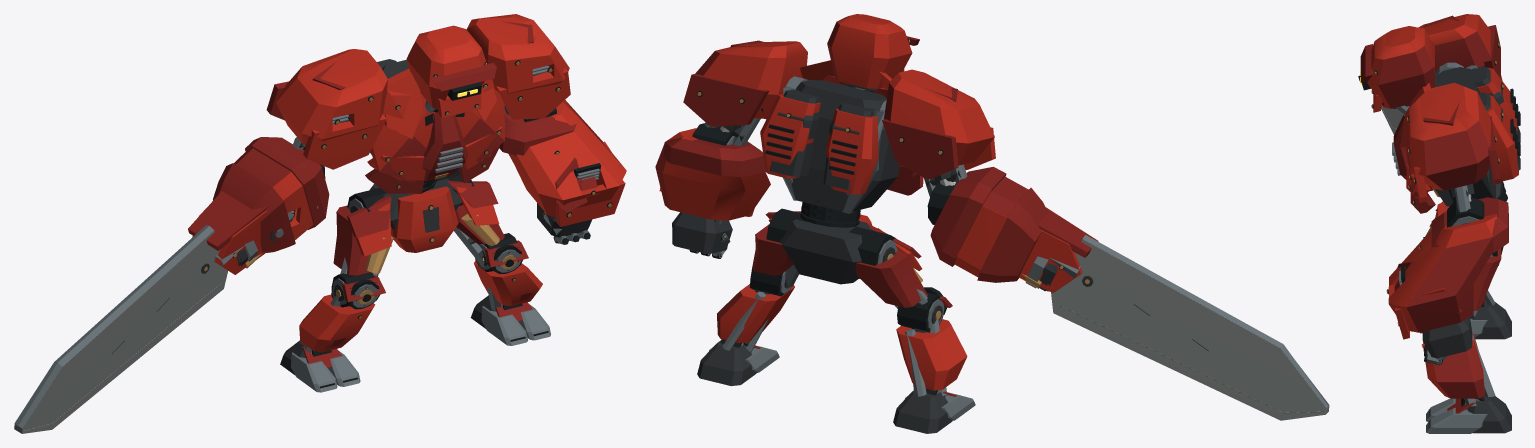
Rendered from red-cleaver-41-v2.glb.
The picture shows the model from 3 angles, left to right: view 1: azimuth 30°, elevation 25°; view 2: azimuth 150°, elevation 25°; view 3: azimuth 270°, elevation 25°; orthographic projection. The views are drawn at different scales.
Visible parts, largest first — view 1: CORE_blade_forearm, PLATE_shoulder_cap.R, PLATE_forearm_gauntlet.L, PLATE_shoulder_cap.L, PLATE_helmet, PLATE_pelvis_center, PLATE_forearm_distal_lame.R, PLATE_pectoral.R, PLATE_shin_guard.R, PLATE_forearm_elbow_cuff.R, PLATE_forearm_gauntlet.R, CORE_foot.R (+26 smaller); view 2: CORE_blade_forearm, CORE_chest, PLATE_shoulder_cap.R, PLATE_forearm_gauntlet.L, PLATE_helmet, PLATE_shoulder_cap.L, CORE_pelvis, PLATE_back_service.R, PLATE_forearm_distal_lame.R, PLATE_forearm_elbow_cuff.R, PLATE_shoulder_rear_skirt.L, PLATE_shin_guard.R (+18 smaller); view 3: PLATE_forearm_gauntlet.L, PLATE_shoulder_cap.L, PLATE_helmet, PLATE_shoulder_cap.R, CORE_foot.L, CORE_chest, PLATE_shin_guard.L, PLATE_back_service.L, CORE_hand.L, PLATE_forearm_elbow_cuff.L, CORE_foot.R, PLATE_back_service.R (+19 smaller).
Boxes of the visible parts, box(x1,y1,x2,y2) form: CORE_blade_forearm: box(14, 211, 293, 433); PLATE_shoulder_cap.R: box(276, 49, 387, 144); PLATE_forearm_gauntlet.L: box(508, 100, 626, 217); PLATE_shoulder_cap.L: box(466, 14, 569, 93); PLATE_helmet: box(406, 25, 486, 108); PLATE_pelvis_center: box(392, 186, 458, 252); PLATE_forearm_distal_lame.R: box(213, 163, 295, 252); PLATE_pectoral.R: box(371, 90, 434, 182); PLATE_shin_guard.R: box(299, 294, 375, 352); PLATE_forearm_elbow_cuff.R: box(245, 137, 329, 229); PLATE_forearm_gauntlet.R: box(234, 148, 318, 239); CORE_foot.R: box(280, 340, 360, 392); CORE_blade_forearm: box(1019, 235, 1329, 420); CORE_chest: box(770, 76, 899, 227); PLATE_shoulder_cap.R: box(884, 69, 994, 165); PLATE_forearm_gauntlet.L: box(655, 128, 770, 220); PLATE_helmet: box(827, 14, 912, 88); PLATE_shoulder_cap.L: box(695, 41, 807, 118); CORE_pelvis: box(780, 219, 872, 284); PLATE_back_service.R: box(826, 108, 878, 194); PLATE_forearm_distal_lame.R: box(977, 187, 1048, 282); PLATE_forearm_elbow_cuff.R: box(930, 166, 1006, 266); PLATE_shoulder_rear_skirt.L: box(683, 73, 769, 126); PLATE_shin_guard.R: box(896, 319, 967, 390); PLATE_forearm_gauntlet.L: box(1386, 214, 1497, 332); PLATE_shoulder_cap.L: box(1407, 82, 1490, 190); PLATE_helmet: box(1367, 26, 1435, 108); PLATE_shoulder_cap.R: box(1418, 14, 1490, 72); CORE_foot.L: box(1426, 395, 1511, 433); CORE_chest: box(1432, 62, 1520, 206); PLATE_shin_guard.L: box(1421, 334, 1484, 398); PLATE_back_service.L: box(1486, 95, 1520, 181); CORE_hand.L: box(1422, 317, 1472, 358); PLATE_forearm_elbow_cuff.L: box(1431, 197, 1508, 253); CORE_foot.R: box(1470, 302, 1511, 339); PLATE_back_service.R: box(1477, 67, 1520, 131).
Bounding box in the file's own units: 5.83 × 3.05 × 1.31.
